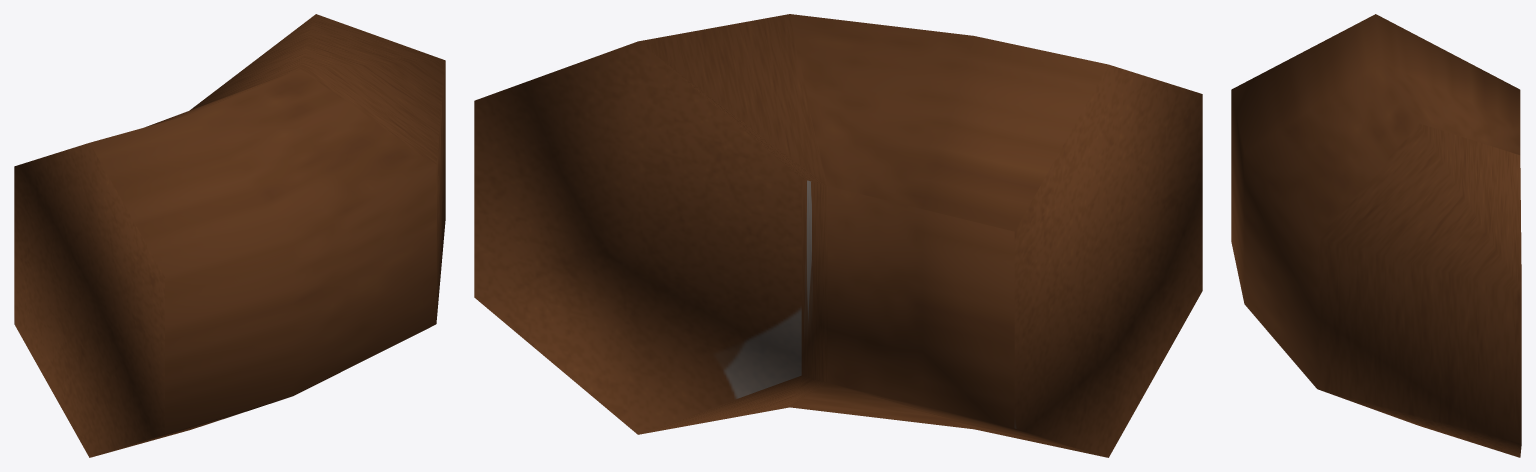
The model's file is edgePipe.fbx.
3 views of the same model, side by side, from view 1: azimuth 30°, elevation 25°; view 2: azimuth 150°, elevation 25°; view 3: azimuth 270°, elevation 25° (orthographic). The views are drawn at different scales.
Visible parts, largest first — view 1: pCylinder2; view 2: pCylinder2; view 3: pCylinder2.
Boxes of the visible parts, left/top/right/bottom form: pCylinder2: left=14, top=14, right=445, bottom=457; pCylinder2: left=474, top=14, right=1202, bottom=457; pCylinder2: left=1231, top=14, right=1521, bottom=457.
Size of the model in its own units: 0.3762 by 0.2621 by 0.2281.
Materials: 1 (1 with a texture image).
